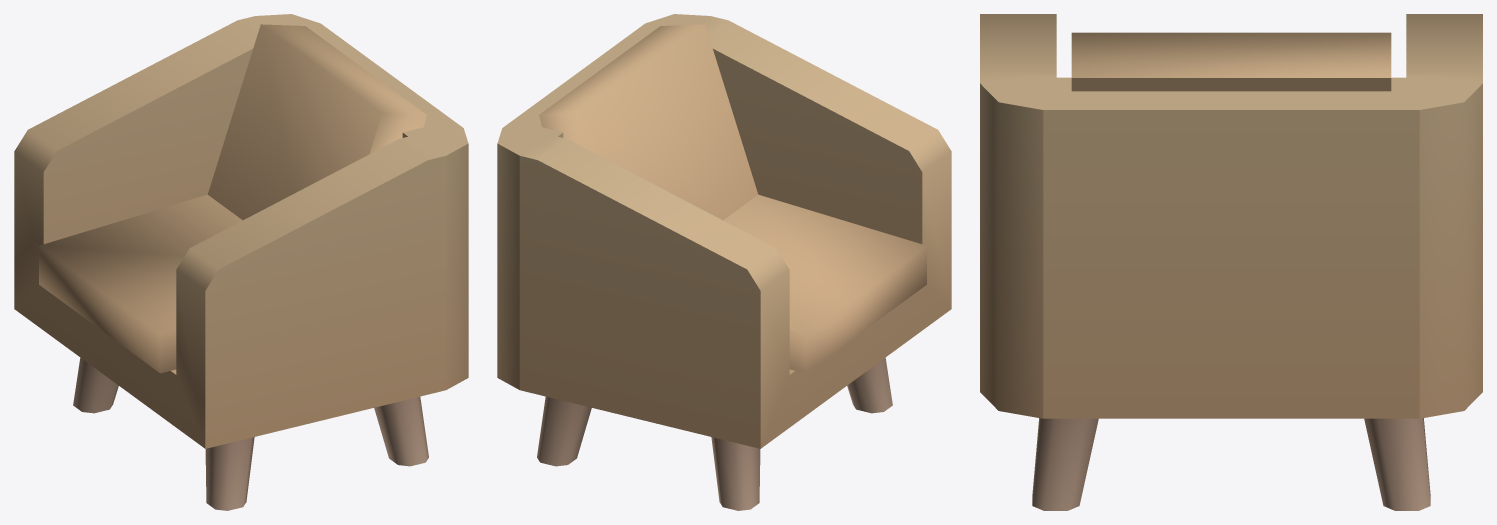
File: vegas-chair.glb
The picture shows the model from 3 angles, left to right: view 1: azimuth 30°, elevation 25°; view 2: azimuth 150°, elevation 25°; view 3: azimuth 270°, elevation 25°; orthographic projection. The views are drawn at different scales.
Visible parts, largest first — view 1: vegas-chair; view 2: vegas-chair; view 3: vegas-chair.
Boxes of the visible parts, left/top/right/bottom form: vegas-chair: left=14, top=14, right=468, bottom=510; vegas-chair: left=497, top=14, right=951, bottom=510; vegas-chair: left=980, top=14, right=1482, bottom=510.
Size of the model in its own units: 0.593 by 0.6688 by 0.67.
